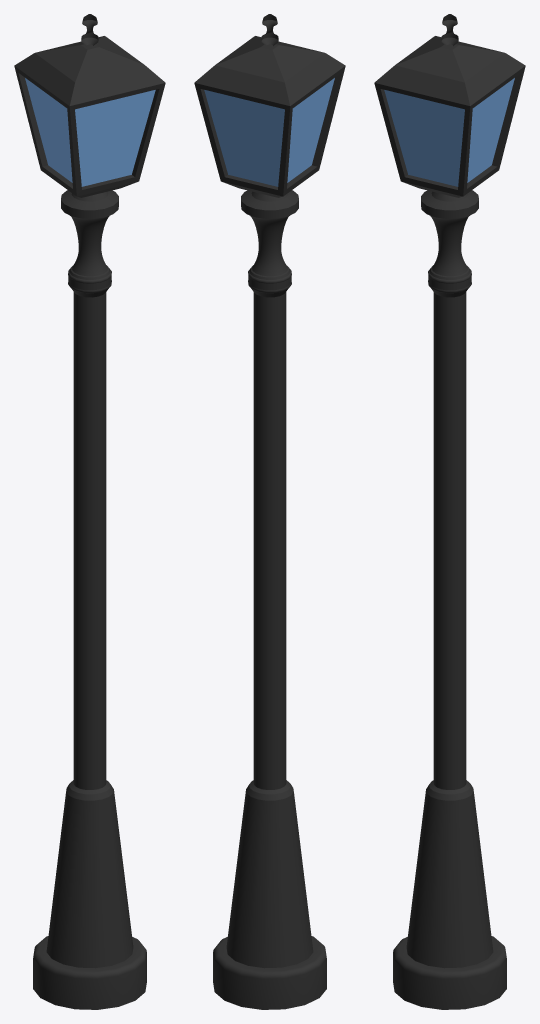
The model's file is Lamp Post 1.fbx.
3 renders of one model, left to right at view 1: azimuth 30°, elevation 25°; view 2: azimuth 150°, elevation 25°; view 3: azimuth 330°, elevation 25°, orthographic.
Visible parts, largest first — view 1: post, cage; view 2: post, cage; view 3: post, cage.
Boxes of the visible parts, left/top/right/bottom form: post: left=33, top=14, right=146, bottom=1009; cage: left=14, top=36, right=165, bottom=197; post: left=213, top=14, right=326, bottom=1009; cage: left=194, top=36, right=345, bottom=197; post: left=393, top=14, right=506, bottom=1009; cage: left=374, top=36, right=525, bottom=197.
Size of the model in its own units: 15 by 140 by 15.
